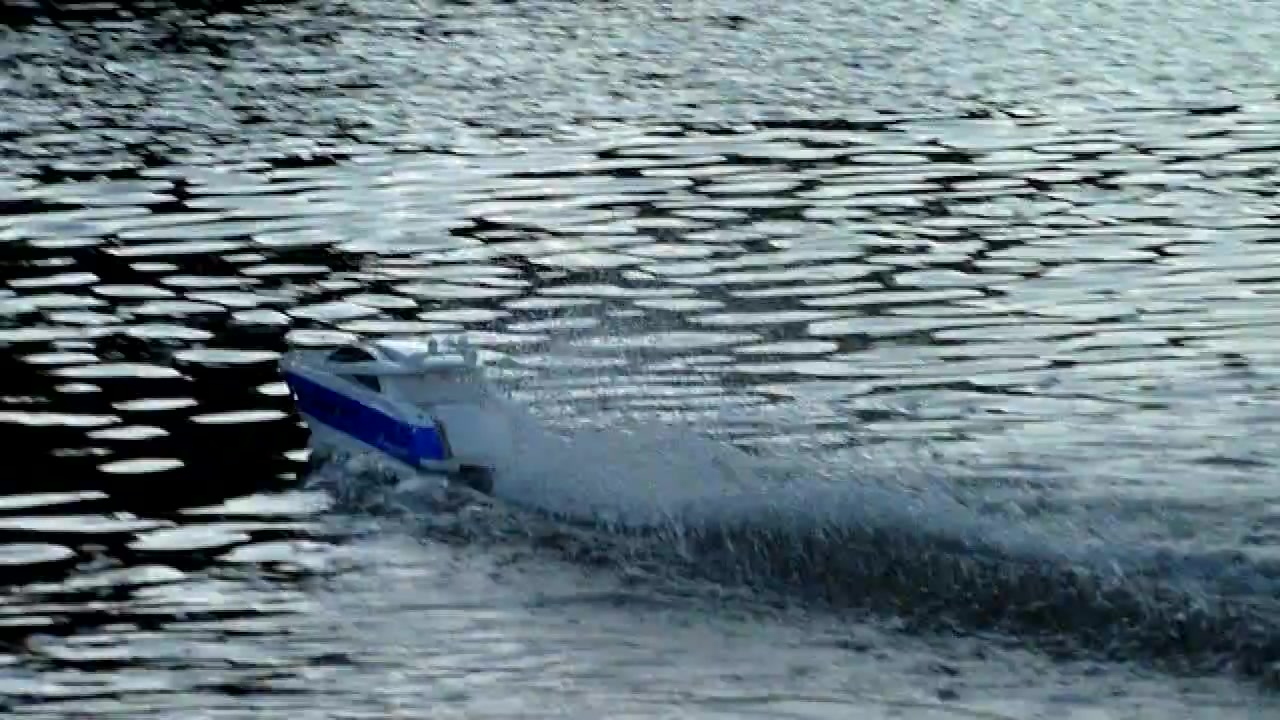boat: (280, 326, 534, 498)
